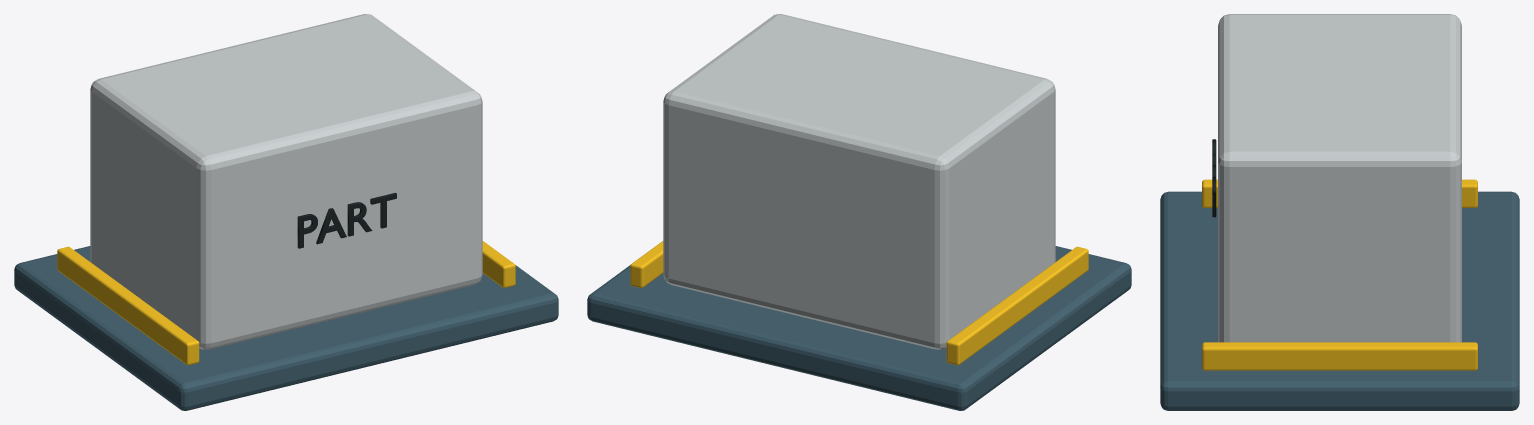
File: workpiece_load.glb
3 renders of one model, left to right at view 1: azimuth 30°, elevation 25°; view 2: azimuth 150°, elevation 25°; view 3: azimuth 270°, elevation 25°, orthographic. The views are drawn at different scales.
Visible parts, largest first — view 1: WORKPIECE_BODY, WORKPIECE_fixture, WORKPIECE_stop_-0.3, WORKPIECE_label, WORKPIECE_stop_0.3; view 2: WORKPIECE_BODY, WORKPIECE_fixture, WORKPIECE_stop_-0.3, WORKPIECE_stop_0.3; view 3: WORKPIECE_BODY, WORKPIECE_fixture, WORKPIECE_stop_0.3, WORKPIECE_stop_-0.3, WORKPIECE_label.
Boxes of the visible parts, x1=… form: WORKPIECE_BODY: x1=90, y1=14, x2=482, y2=349; WORKPIECE_fixture: x1=14, y1=246, x2=558, y2=410; WORKPIECE_stop_-0.3: x1=57, y1=246, x2=199, y2=365; WORKPIECE_label: x1=297, y1=192, x2=396, y2=248; WORKPIECE_stop_0.3: x1=482, y1=241, x2=515, y2=287; WORKPIECE_BODY: x1=663, y1=14, x2=1055, y2=349; WORKPIECE_fixture: x1=587, y1=246, x2=1131, y2=410; WORKPIECE_stop_-0.3: x1=946, y1=246, x2=1088, y2=365; WORKPIECE_stop_0.3: x1=630, y1=241, x2=663, y2=287; WORKPIECE_BODY: x1=1218, y1=14, x2=1461, y2=342; WORKPIECE_fixture: x1=1160, y1=191, x2=1519, y2=410; WORKPIECE_stop_0.3: x1=1202, y1=342, x2=1477, y2=370; WORKPIECE_stop_-0.3: x1=1202, y1=179, x2=1477, y2=207; WORKPIECE_label: x1=1212, y1=139, x2=1216, y2=217.
Size of the model in its own units: 0.72 by 0.4 by 0.56.
